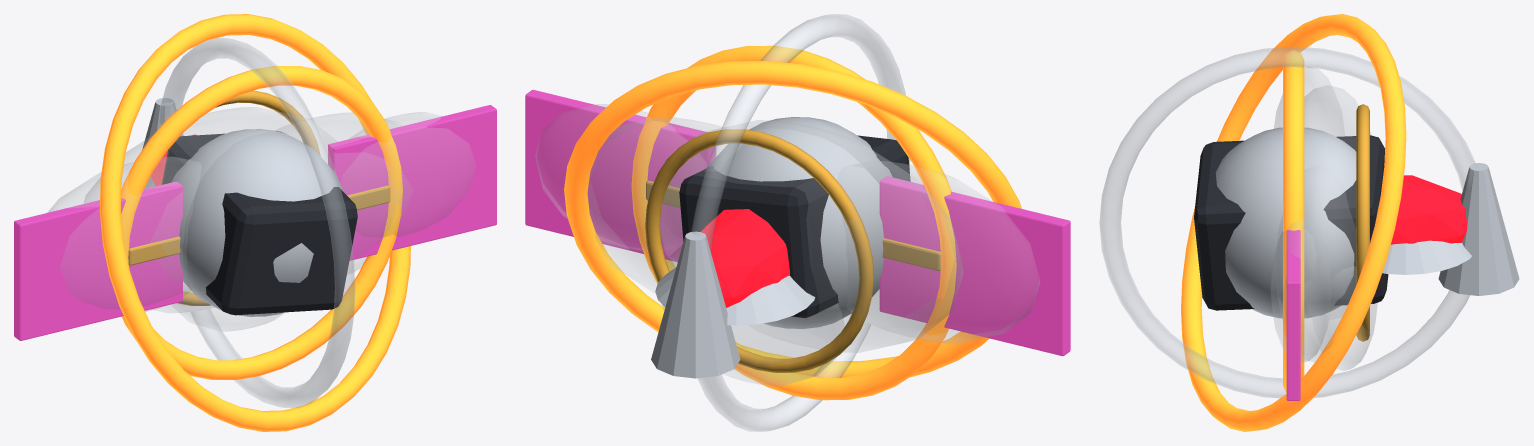
File: globe-kit.glb
3 views of the same model, side by side, from view 1: azimuth 30°, elevation 25°; view 2: azimuth 150°, elevation 25°; view 3: azimuth 270°, elevation 25° (orthographic). The views are drawn at different scales.
Parts seen in each view (by area): view 1: Capsule_Orbit_03, Satellite_Panel_L, Satellite_Panel_R, Satellite_Body, Capsule_Orbit_01, Capsule_Core, Capsule_Orbit_02, Cloud_Puff_01, Cloud_Puff_04, Cloud_Puff_02, Cloud_Puff_03, NodeBeacon_Ring (+4 smaller); view 2: Cloud_Puff_02, Satellite_Panel_L, Capsule_Orbit_03, Cloud_Puff_01, Satellite_Panel_R, Capsule_Orbit_01, Capsule_Core, Capsule_Orbit_02, Satellite_Body, Cloud_Puff_03, NodeBeacon_Ring, NodeBeacon_Spire (+5 smaller); view 3: Capsule_Orbit_02, Capsule_Orbit_03, Capsule_Core, Satellite_Body, NodeBeacon_Spire, Cloud_Puff_03, Cloud_Puff_04, Capsule_Orbit_01, Cloud_Puff_02, NodeBeacon_Core, Satellite_Panel_R, NodeBeacon_Ring (+3 smaller).
Part boxes in pixels (bbox=[...]): Capsule_Orbit_03: bbox=[99, 14, 410, 431]; Satellite_Panel_L: bbox=[14, 181, 182, 340]; Satellite_Panel_R: bbox=[328, 105, 496, 260]; Satellite_Body: bbox=[161, 131, 357, 315]; Capsule_Orbit_01: bbox=[121, 66, 402, 379]; Capsule_Core: bbox=[171, 129, 344, 316]; Capsule_Orbit_02: bbox=[160, 38, 354, 407]; Cloud_Puff_01: bbox=[47, 157, 195, 311]; Cloud_Puff_04: bbox=[350, 112, 475, 236]; Cloud_Puff_02: bbox=[84, 107, 337, 312]; Cloud_Puff_03: bbox=[275, 112, 402, 274]; NodeBeacon_Ring: bbox=[177, 90, 320, 305]; Cloud_Puff_02: bbox=[660, 120, 962, 352]; Satellite_Panel_L: bbox=[879, 176, 1070, 356]; Capsule_Orbit_03: bbox=[564, 61, 1021, 377]; Cloud_Puff_01: bbox=[851, 161, 1039, 343]; Satellite_Panel_R: bbox=[525, 89, 715, 262]; Capsule_Orbit_01: bbox=[631, 45, 956, 400]; Capsule_Core: bbox=[707, 117, 892, 328]; Capsule_Orbit_02: bbox=[691, 14, 909, 431]; Satellite_Body: bbox=[679, 135, 910, 318]; Cloud_Puff_03: bbox=[588, 117, 721, 293]; NodeBeacon_Ring: bbox=[645, 129, 873, 372]; NodeBeacon_Spire: bbox=[651, 231, 740, 378]; Capsule_Orbit_02: bbox=[1099, 47, 1477, 397]; Capsule_Orbit_03: bbox=[1181, 14, 1406, 431]; Capsule_Core: bbox=[1215, 127, 1356, 318]; Satellite_Body: bbox=[1194, 135, 1388, 310]; NodeBeacon_Spire: bbox=[1438, 163, 1519, 295]; Cloud_Puff_03: bbox=[1277, 173, 1356, 362]; Cloud_Puff_04: bbox=[1271, 217, 1331, 362]; Capsule_Orbit_01: bbox=[1283, 50, 1304, 392]; Cloud_Puff_02: bbox=[1304, 85, 1371, 319]; NodeBeacon_Core: bbox=[1391, 175, 1465, 244]; Satellite_Panel_R: bbox=[1286, 230, 1300, 400]; NodeBeacon_Ring: bbox=[1356, 104, 1369, 341].
Bounding box in the file's own units: 1.46 × 1.02 × 1.09.
